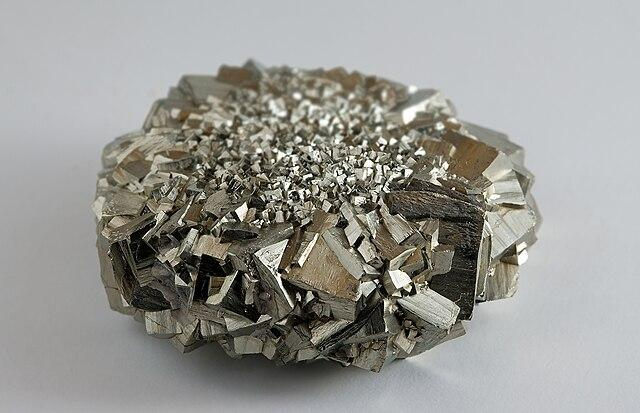pyrite: (85, 59, 562, 375)
